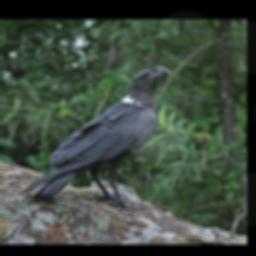Crow: (20, 64, 174, 212)
